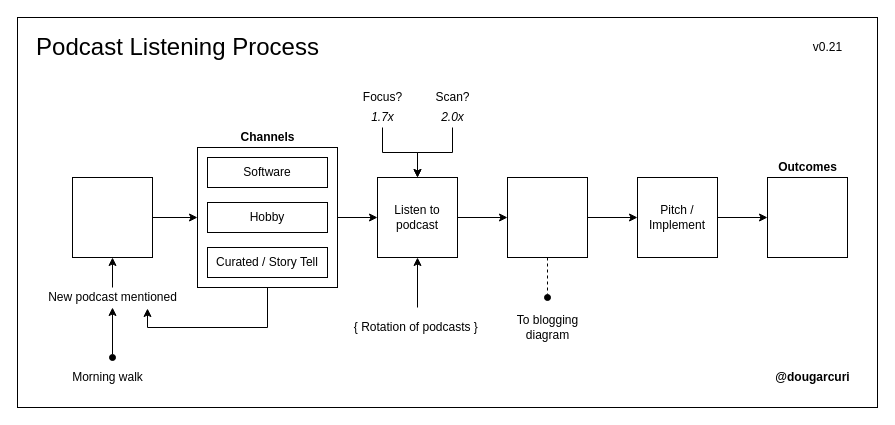
This 895x425 diagram has some shape labels left out. The centre of each missing label's shape, as x and y in pixels:
"Mentor / Recommend to others" goes at pixel 807 217.
"Subscribe to podcast?" goes at pixel 112 217.
"Write impactful notes" goes at pixel 547 217.
